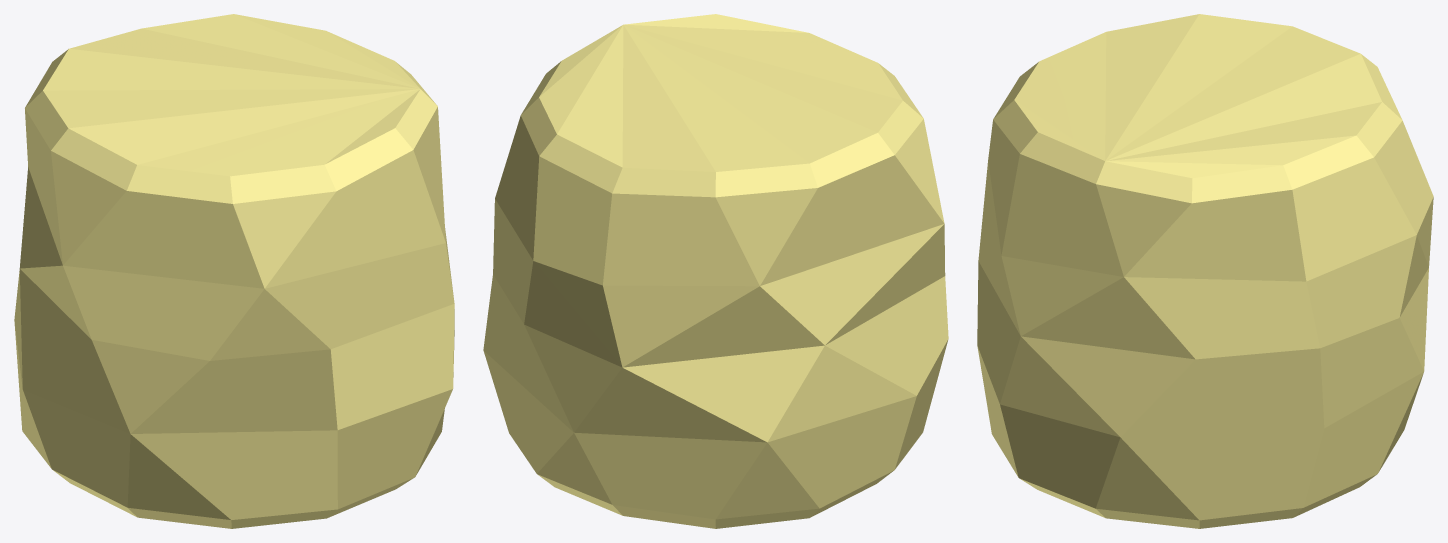
The model's file is prop_037.fbx.
3 renders of one model, left to right at view 1: azimuth 30°, elevation 25°; view 2: azimuth 150°, elevation 25°; view 3: azimuth 270°, elevation 25°, orthographic.
Parts seen in each view (by area): view 1: prop.037; view 2: prop.037; view 3: prop.037.
Part boxes in pixels (x1,y1,x2,y2): prop.037: [14, 14, 454, 528]; prop.037: [483, 14, 948, 528]; prop.037: [977, 14, 1433, 528].
Bounding box in the file's own units: 495 × 431 × 499.
Materials: 1 (1 with a texture image).
